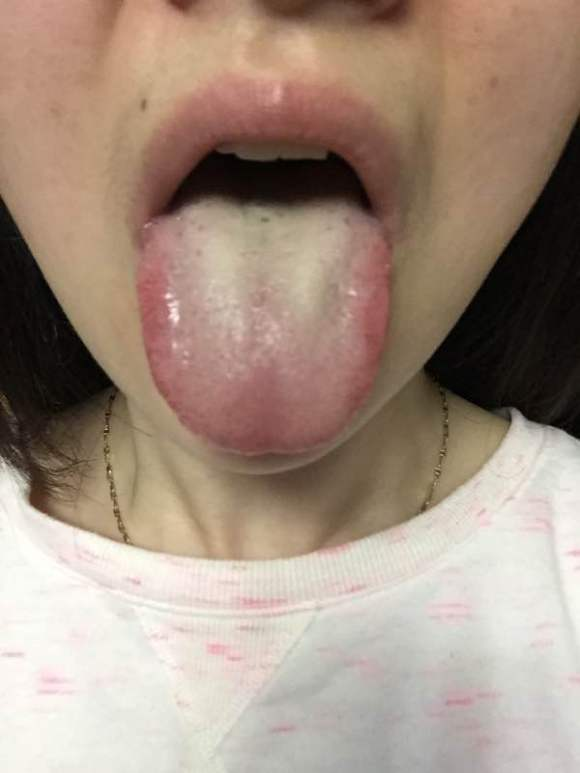hongshe: (140, 185, 390, 455)
huangtaishe: (140, 185, 390, 455)
